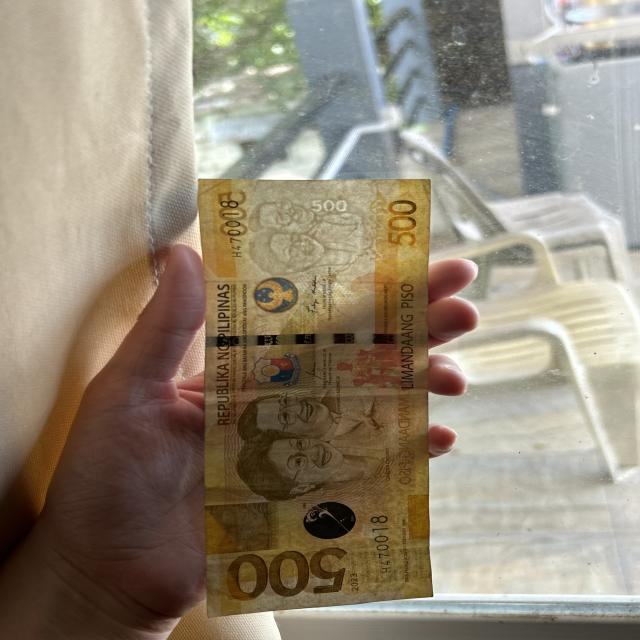concealed_value: (210, 509, 276, 555)
optically_variable_device: (306, 503, 359, 542)
see_through_mark: (368, 194, 388, 264)
value_watermark: (312, 200, 352, 214)
watermark: (235, 189, 372, 278)
